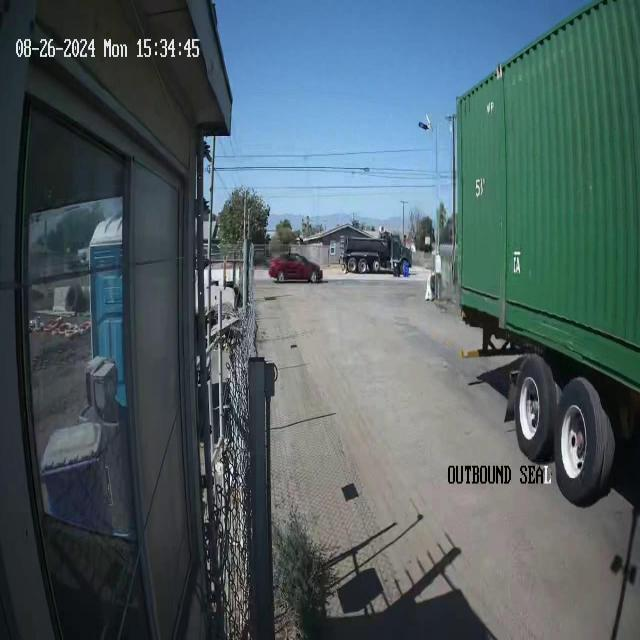CONTAINER: (455, 0, 639, 402)
